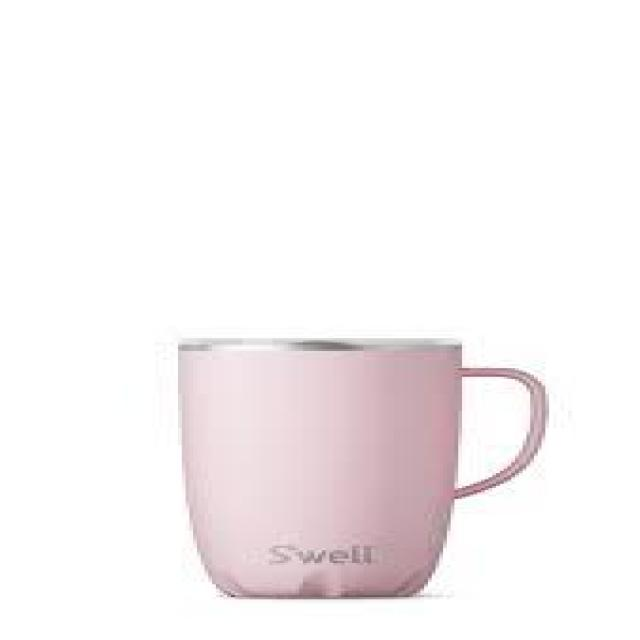bottle: (166, 333, 556, 600)
